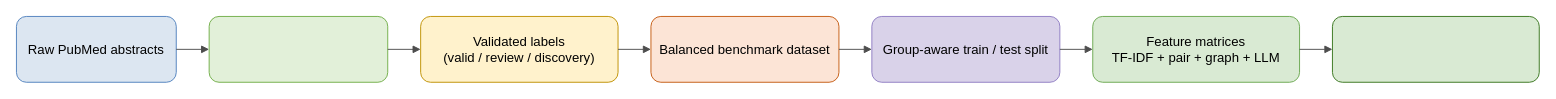
This 1556x99 diagram has some shape labels left out. Each missing label, with the box of its shape:
Extracted interaction records: (208, 16, 388, 82)
Model training and evaluation: (1332, 16, 1539, 82)
